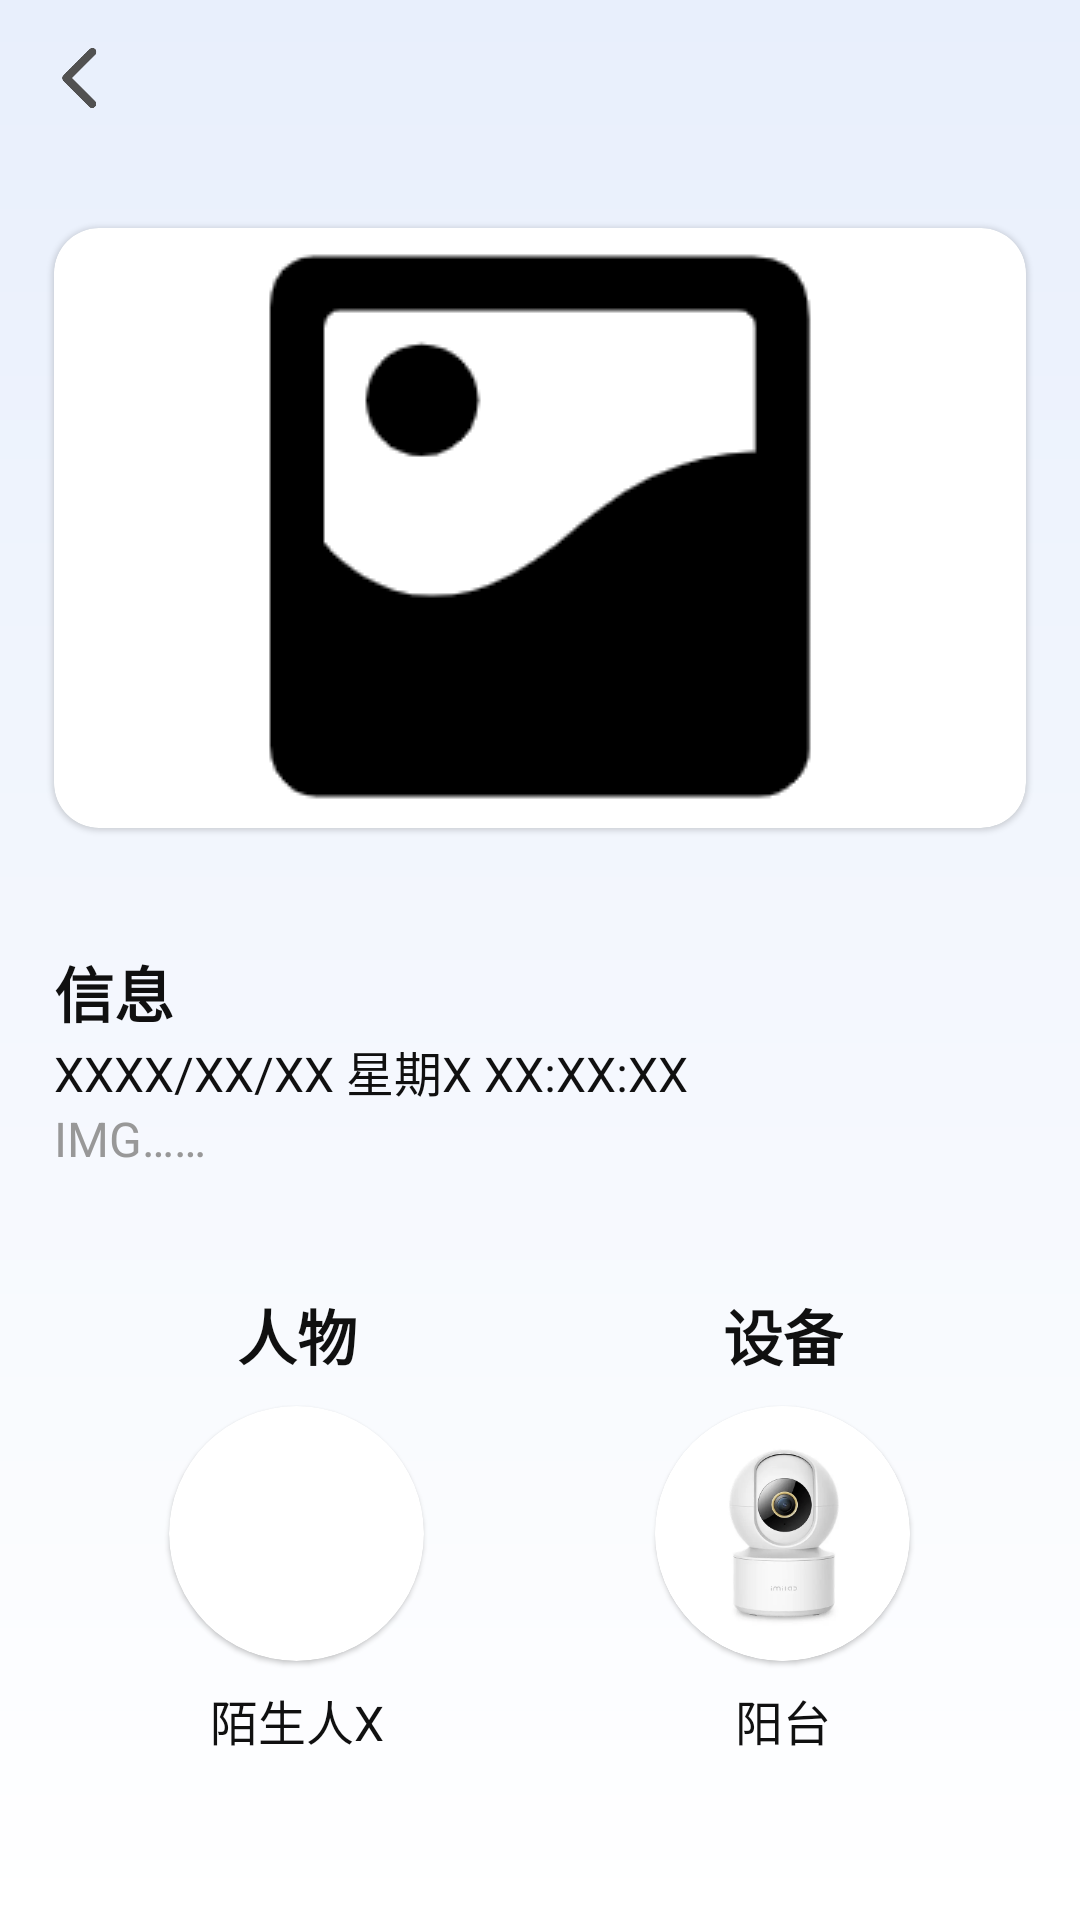

Icon bounding boxes for this 1080px x 1920px phone screenshot, format (x1, y1, x2, y2):
camera: (659, 1451, 910, 1661)
goback: (62, 48, 96, 108)
